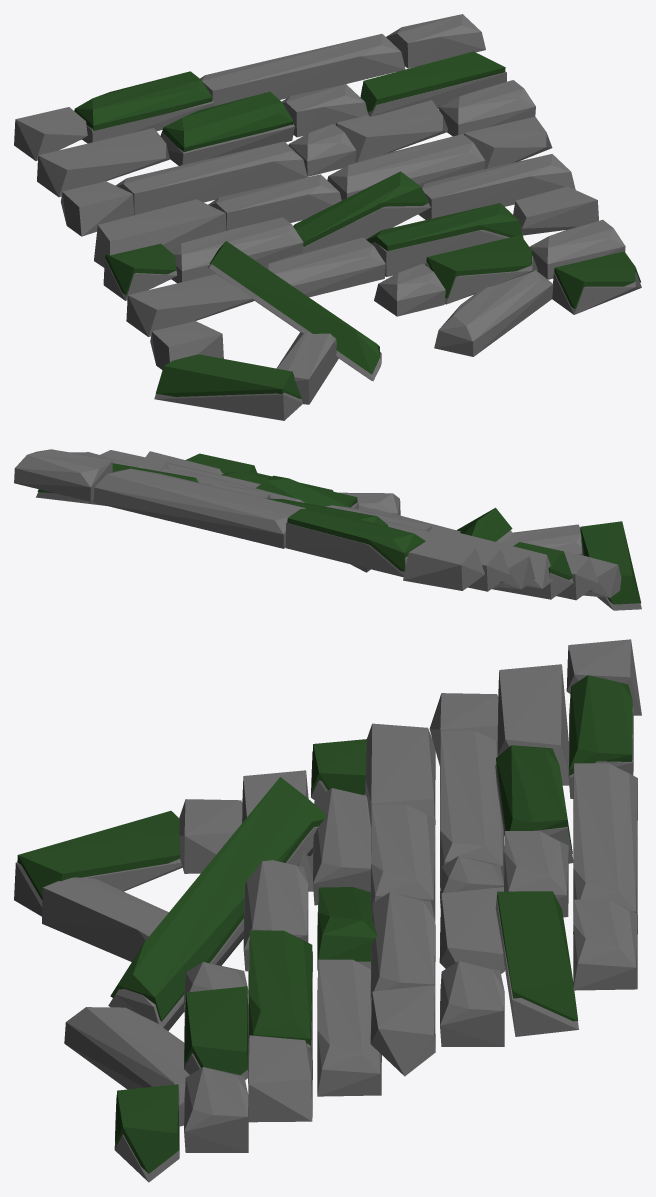
Rendered from SM_stairs_jungle_02.fbx.
The picture shows the model from 3 angles, top to bottom: view 1: azimuth 30°, elevation 25°; view 2: azimuth 150°, elevation 25°; view 3: azimuth 270°, elevation 25°; orthographic projection. The views are drawn at different scales.
Parts seen in each view (by area): view 1: Object064; view 2: Object064; view 3: Object064.
Boxes of the visible parts, x1=… form: Object064: x1=14, y1=14, x2=641, y2=420; Object064: x1=14, y1=449, x2=641, y2=610; Object064: x1=14, y1=639, x2=641, y2=1182.
Bounding box in the file's own units: 171 × 65.85 × 136.
